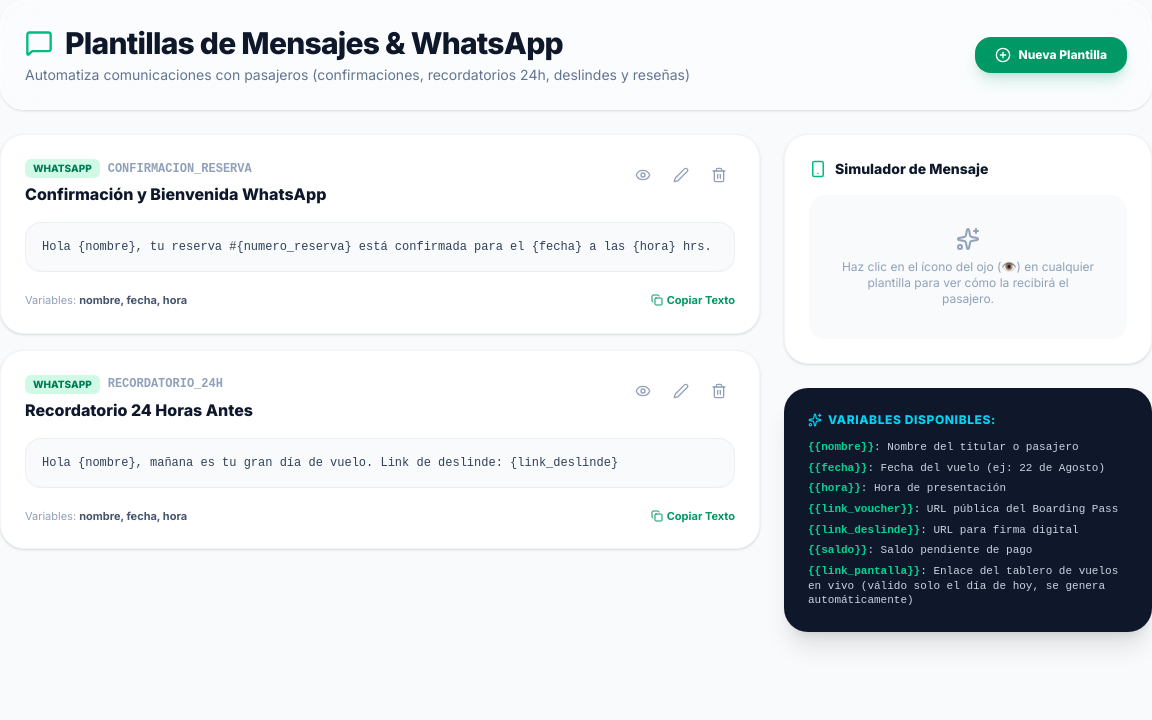
Página de Plantillas (/plantillas) - Pruebas Unitarias y de Componente › 2. Debe abrir el modal para crear una nueva plantilla
The image size is (1152, 720).
What coordinates should you click on to do the following:
click the button "Nueva Plantilla"
I would click on:
 (1051, 55)
Its box is [974, 37, 1127, 73].
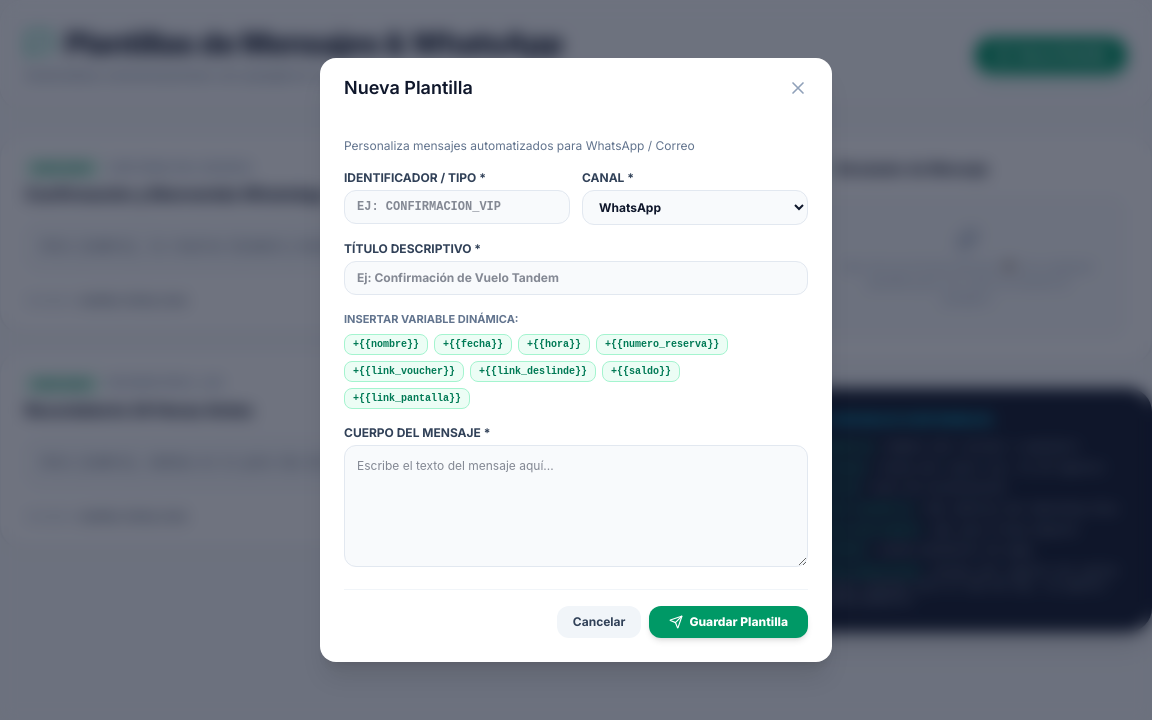
Result: the text "Personaliza mensajes automatizados para WhatsApp / Correo" is shown at [344, 138, 695, 153]
